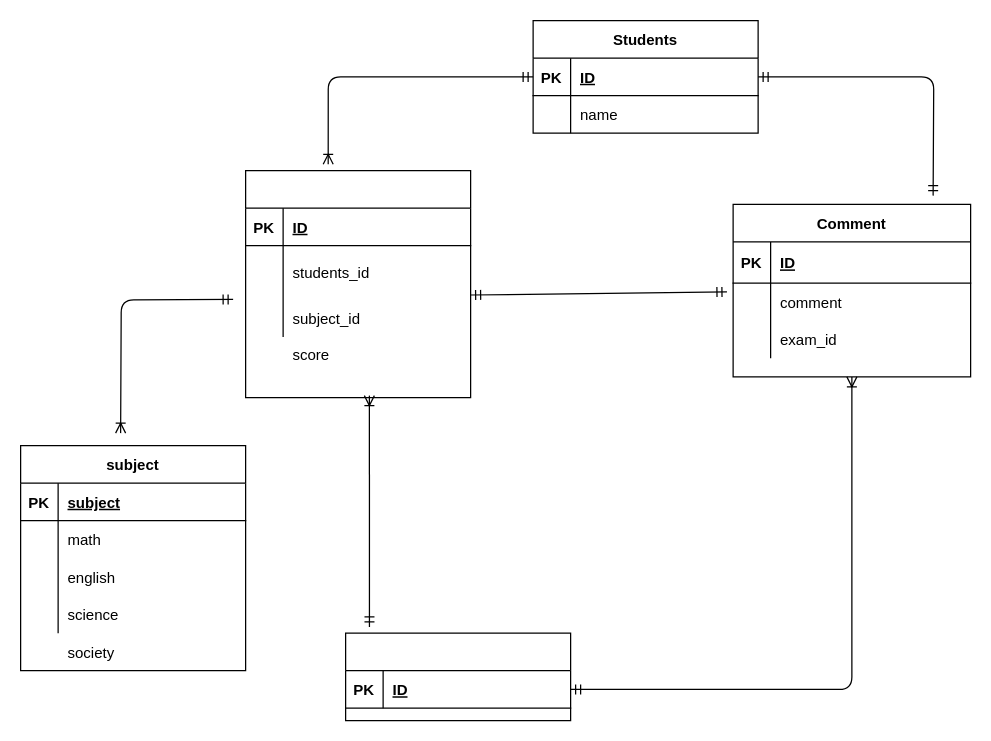
Some shapes in this 991 by 741 pixel diagram are drawn without their labels. Here are the shapes that lost their labels. From the top down, the box of each, then its label:
(244, 169, 471, 398): Exam
(344, 632, 571, 721): Teachers
